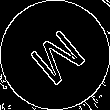M_SE: (21, 21, 89, 89)
